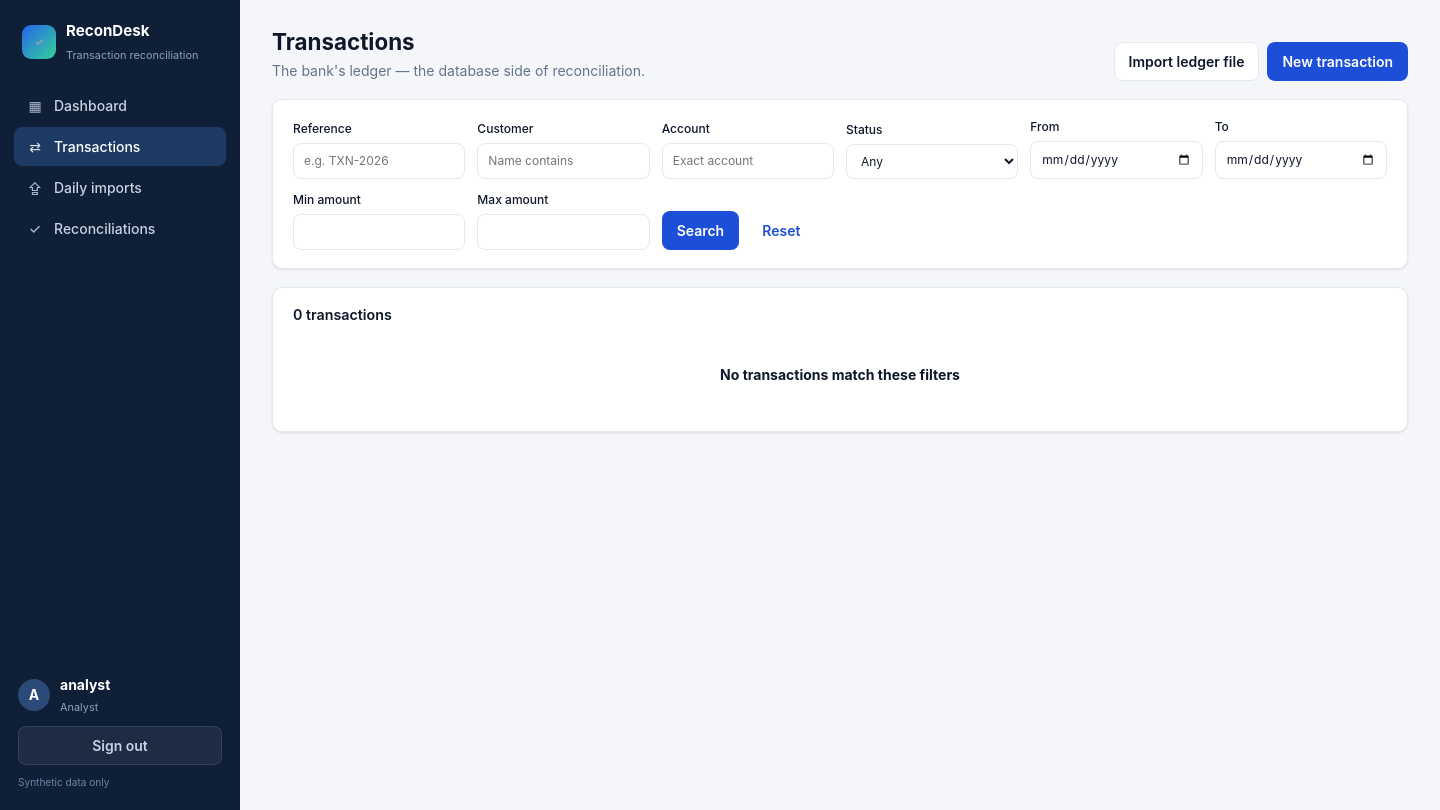
transactions › creates a transaction and shows API validation errors
Click the button "New transaction". click: (1338, 62)
box: x1=1268 y1=42 x2=1408 y2=81
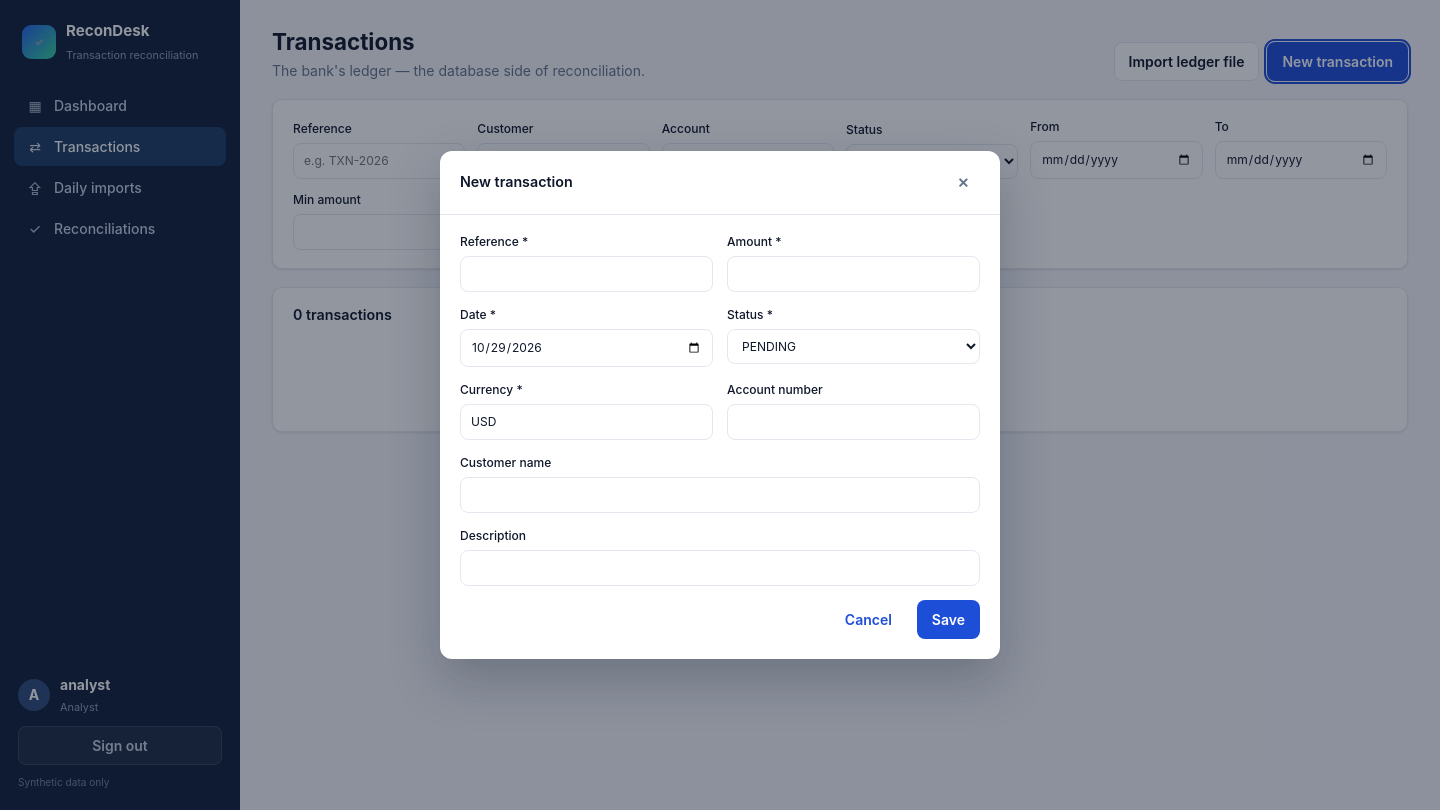
Type "TXN-1" into the field labelled "Reference *". click: (586, 274)
box: x1=460 y1=256 x2=713 y2=292
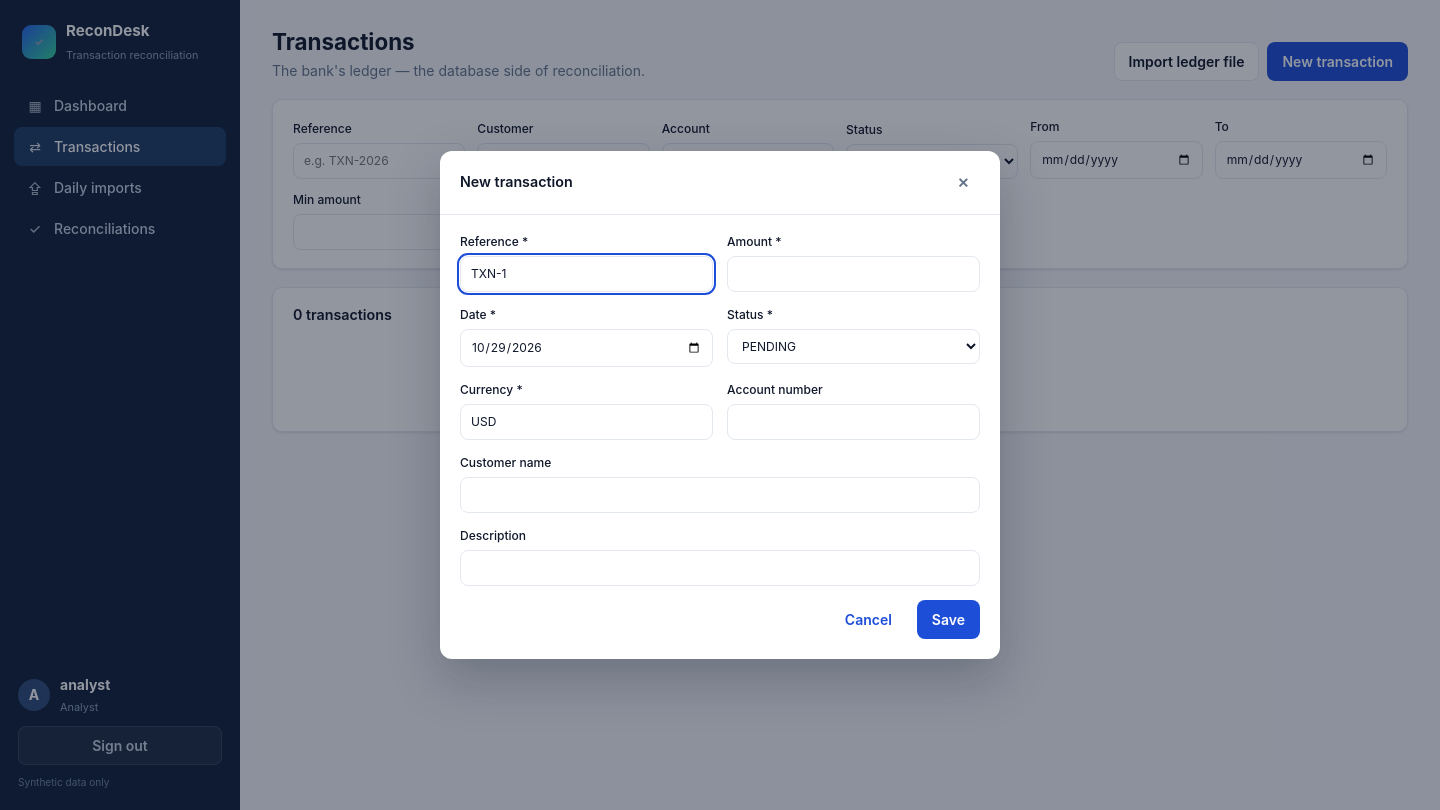
Type "10.50" into the number field labelled "Amount *". click: (854, 274)
box: x1=727 y1=256 x2=980 y2=292
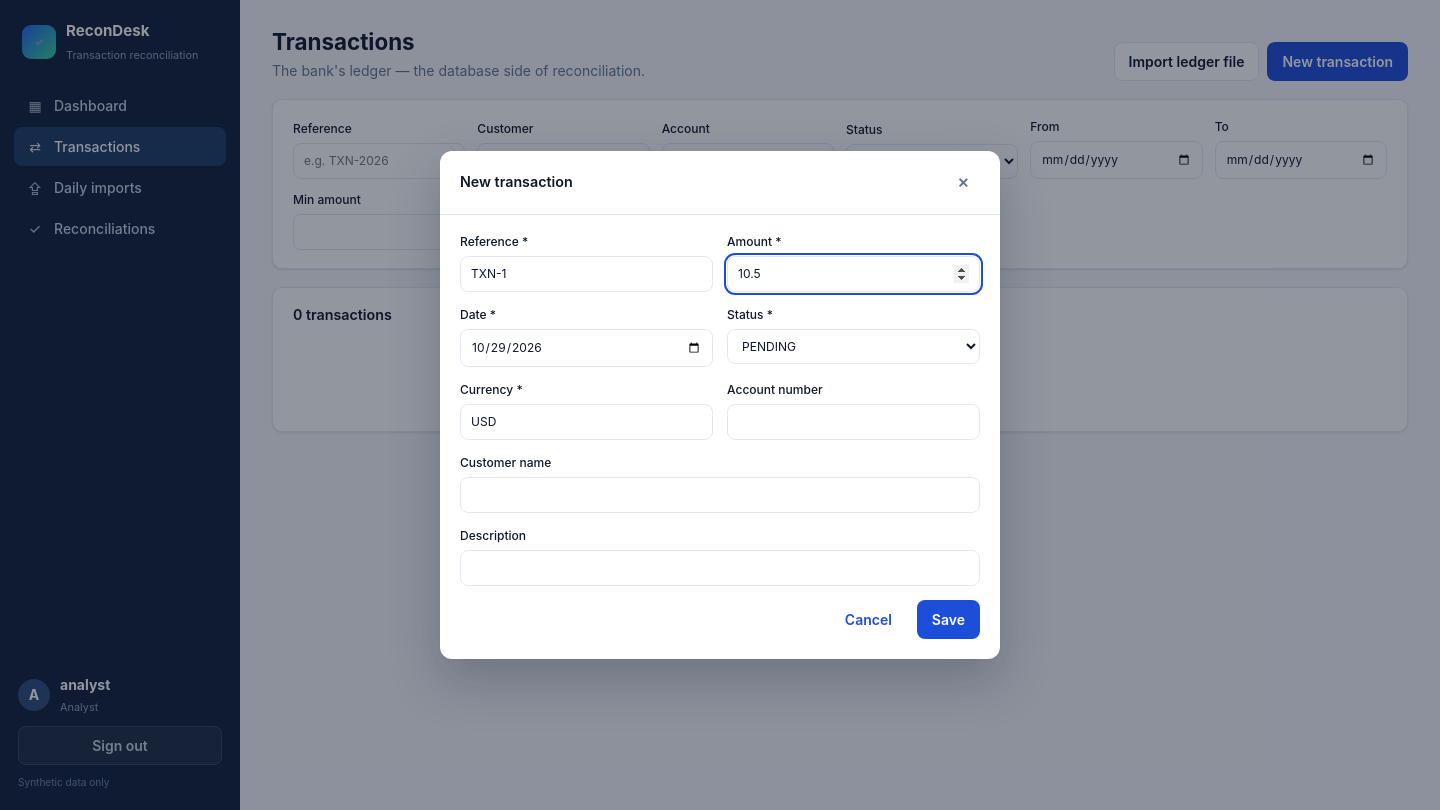
Click the button "Save". click: (948, 620)
box: x1=917 y1=600 x2=980 y2=639
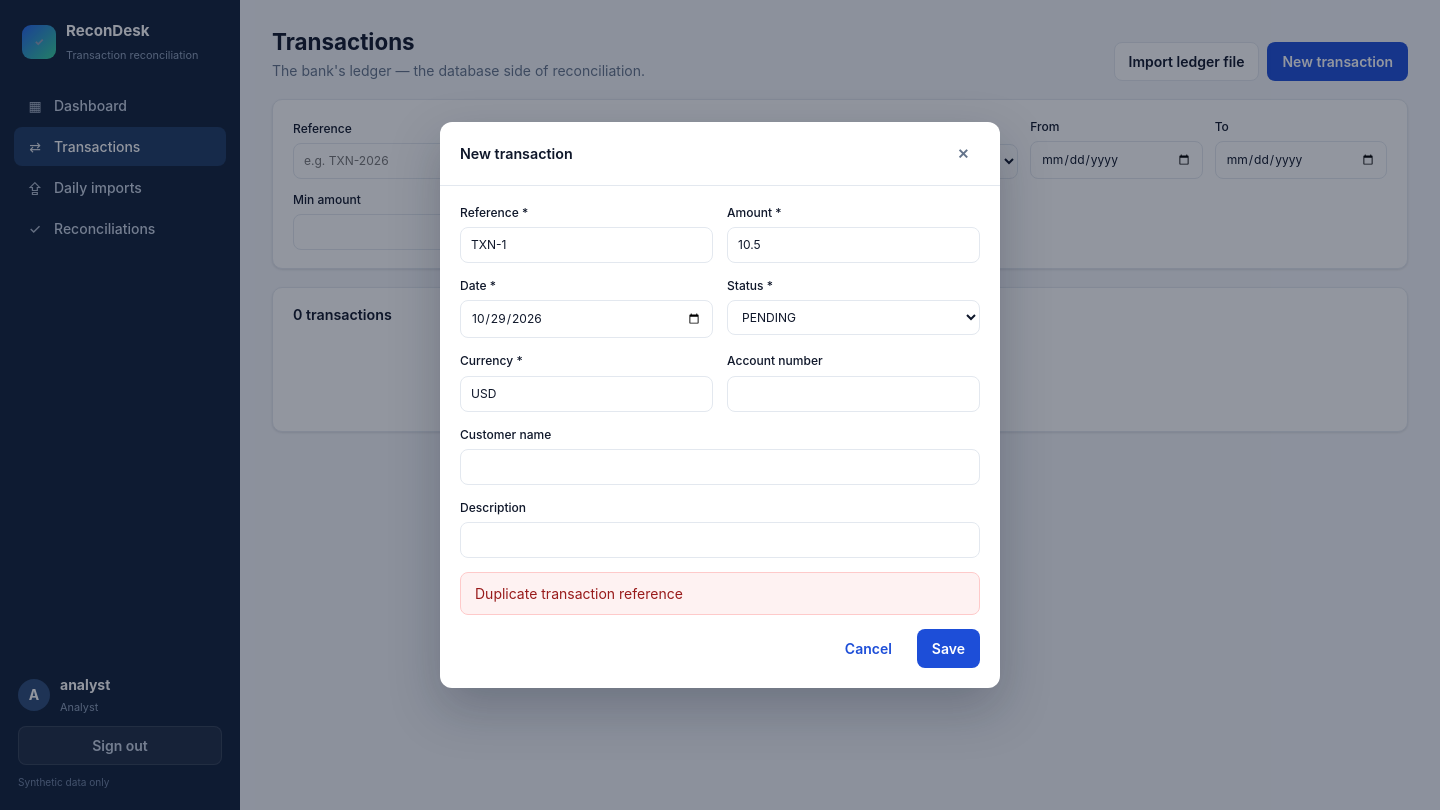
Expected: the message reads "Duplicate transaction reference", x1=475 y1=585 x2=683 y2=602
